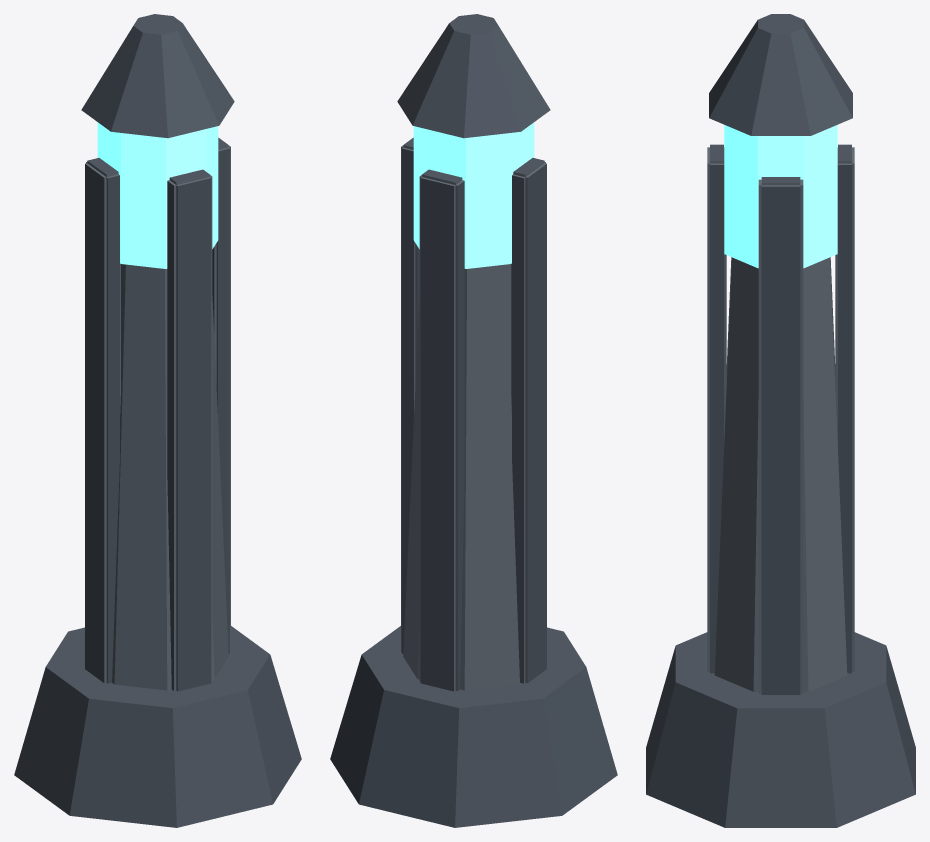
Rendered from SM_CoastPylon.glb.
The picture shows the model from 3 angles, left to right: view 1: azimuth 30°, elevation 25°; view 2: azimuth 150°, elevation 25°; view 3: azimuth 270°, elevation 25°; orthographic projection.
Parts seen in each view (by area): view 1: SM_CoastPylon; view 2: SM_CoastPylon; view 3: SM_CoastPylon.
Boxes of the visible parts, box(x1,y1,x2,y2) form: SM_CoastPylon: box(14, 14, 301, 827); SM_CoastPylon: box(330, 14, 617, 827); SM_CoastPylon: box(646, 14, 915, 827).
Bounding box in the file's own units: 1.94 × 5.93 × 1.94.
